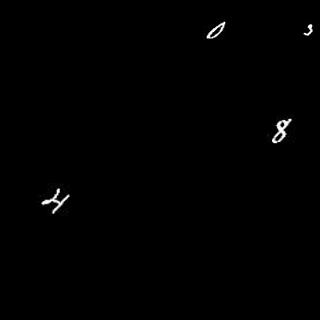eight: (271, 116, 292, 145)
four: (44, 189, 67, 215)
three: (301, 24, 313, 35)
zero: (205, 19, 227, 38)
